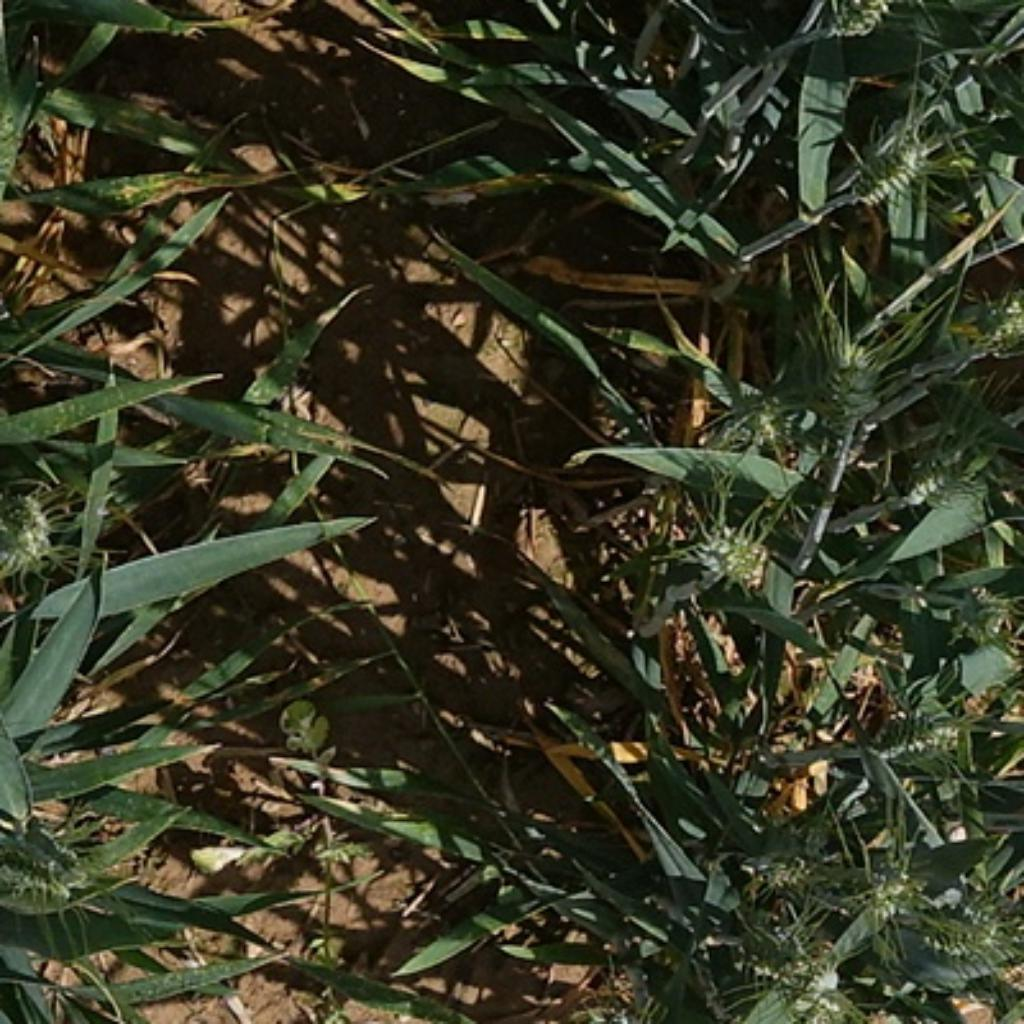0-0: (805, 326, 894, 441), (841, 112, 941, 207), (857, 701, 983, 775), (901, 898, 1011, 980), (747, 942, 855, 1024), (909, 418, 1001, 514), (686, 512, 768, 593), (832, 856, 921, 925), (935, 579, 1014, 651), (8, 848, 72, 915), (974, 284, 1024, 369), (4, 491, 61, 565), (745, 854, 815, 914), (715, 383, 779, 445)
